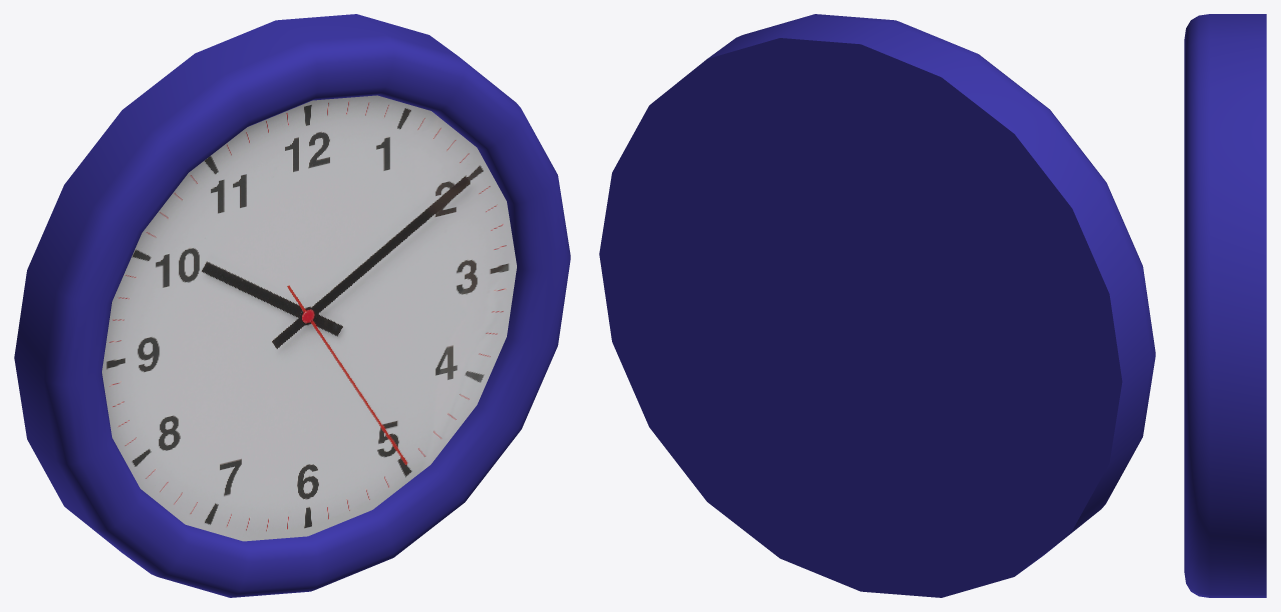
Rendered from Reloj-Azul.FBX.
3 views of the same model, side by side, from view 1: azimuth 30°, elevation 25°; view 2: azimuth 150°, elevation 25°; view 3: azimuth 270°, elevation 25° (orthographic). The views are drawn at different scales.
Visible parts, largest first — view 1: Reloj; view 2: Reloj; view 3: Reloj.
Part boxes in pixels (<box>): Reloj: <box>14,14,570,597</box>; Reloj: <box>599,14,1155,597</box>; Reloj: <box>1184,14,1266,597</box>.
Bounding box in the file's own units: 70.92 × 9.9 × 70.92.
